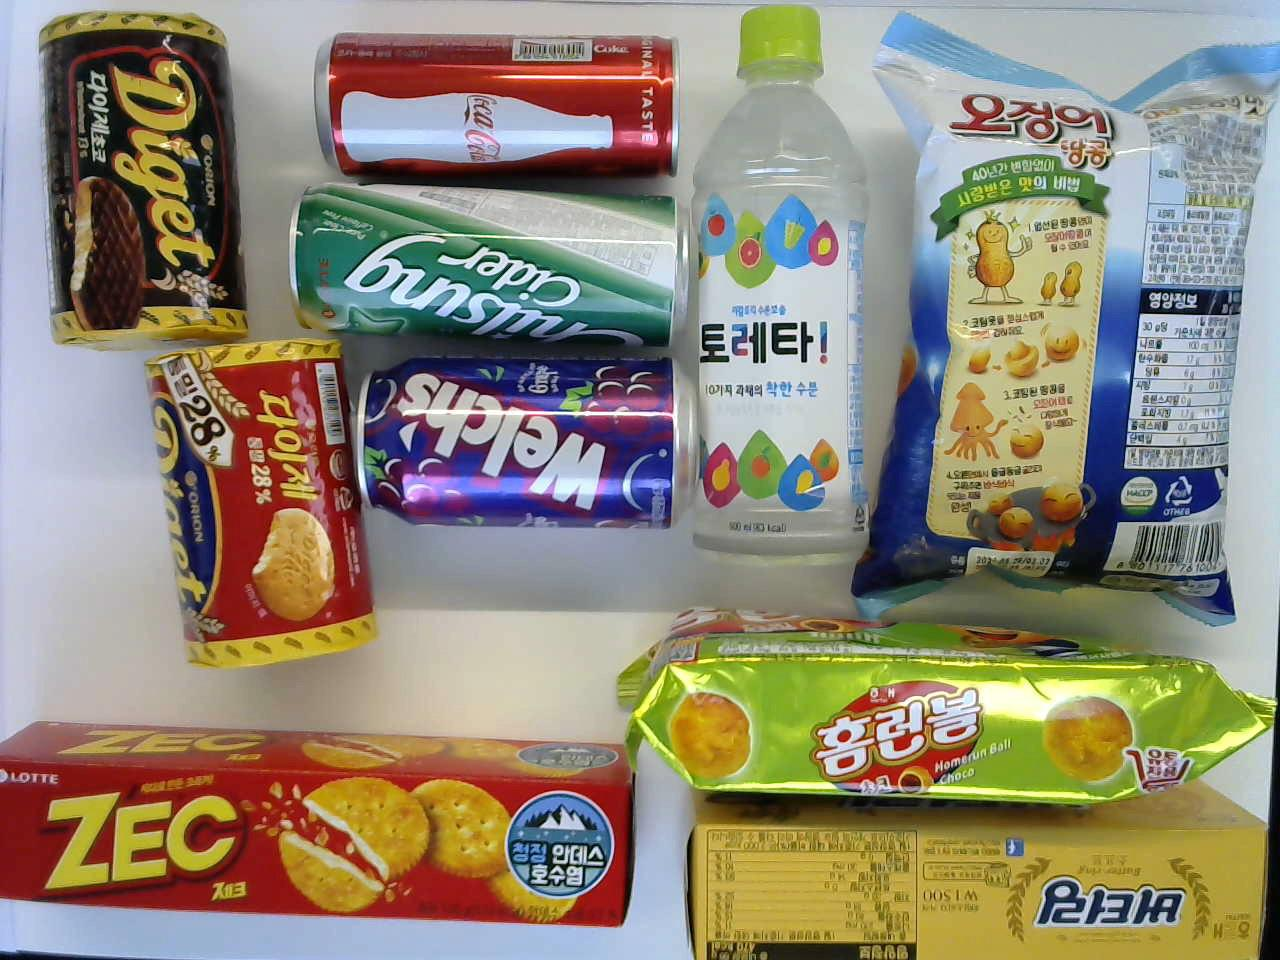buttering: (679, 772, 1277, 959)
cidar: (287, 181, 688, 340)
coke: (308, 30, 677, 174)
diget_choco: (33, 14, 245, 358)
diget_ori: (142, 335, 384, 675)
homerunball: (616, 600, 1280, 810)
squid_peanut: (852, 7, 1280, 635)
toreta: (685, 9, 869, 554)
welchs: (355, 355, 694, 528)
zec: (0, 714, 634, 932)
